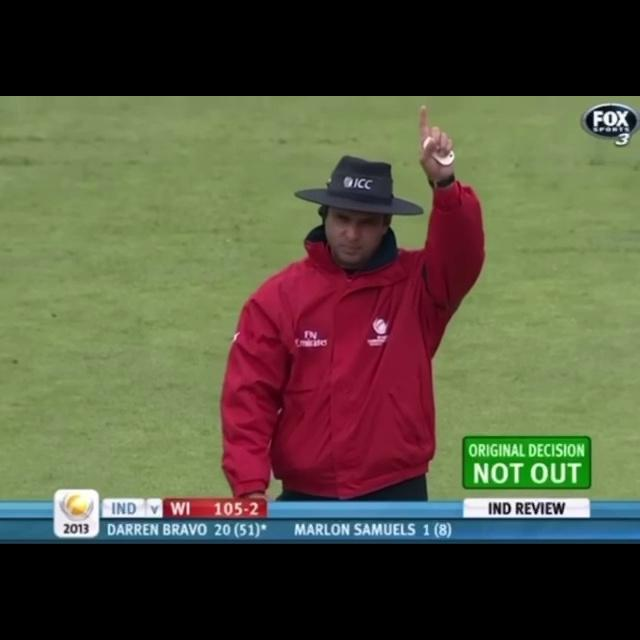umpire: (193, 96, 487, 496)
